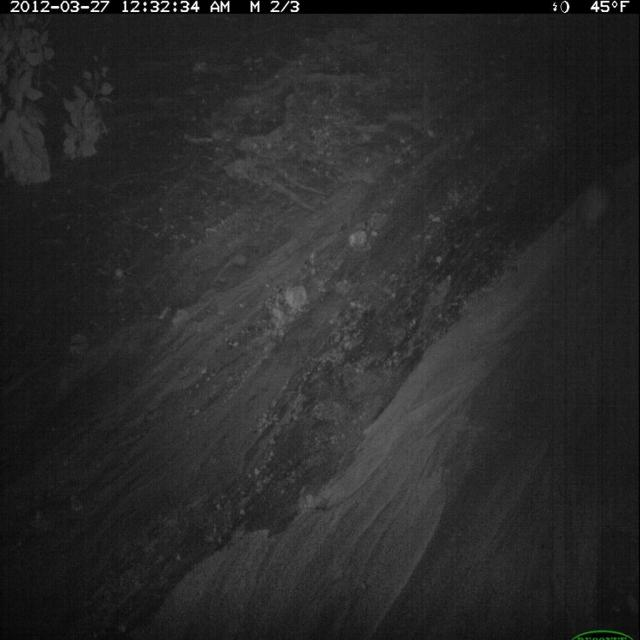opossum: (564, 165, 621, 249)
